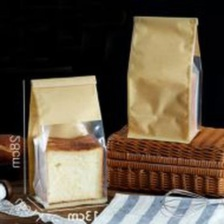snack: (23, 67, 115, 214), (122, 7, 208, 147)
